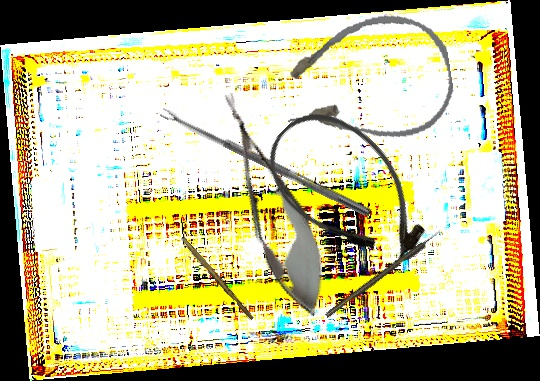Cannula: (248, 91, 447, 289), (274, 5, 460, 156)
Hook Surgical: (324, 229, 443, 319)
Micro Scissor: (200, 83, 344, 326)
Scalpel Handle: (178, 236, 256, 321)
Surgical Spoon: (159, 106, 373, 218)
